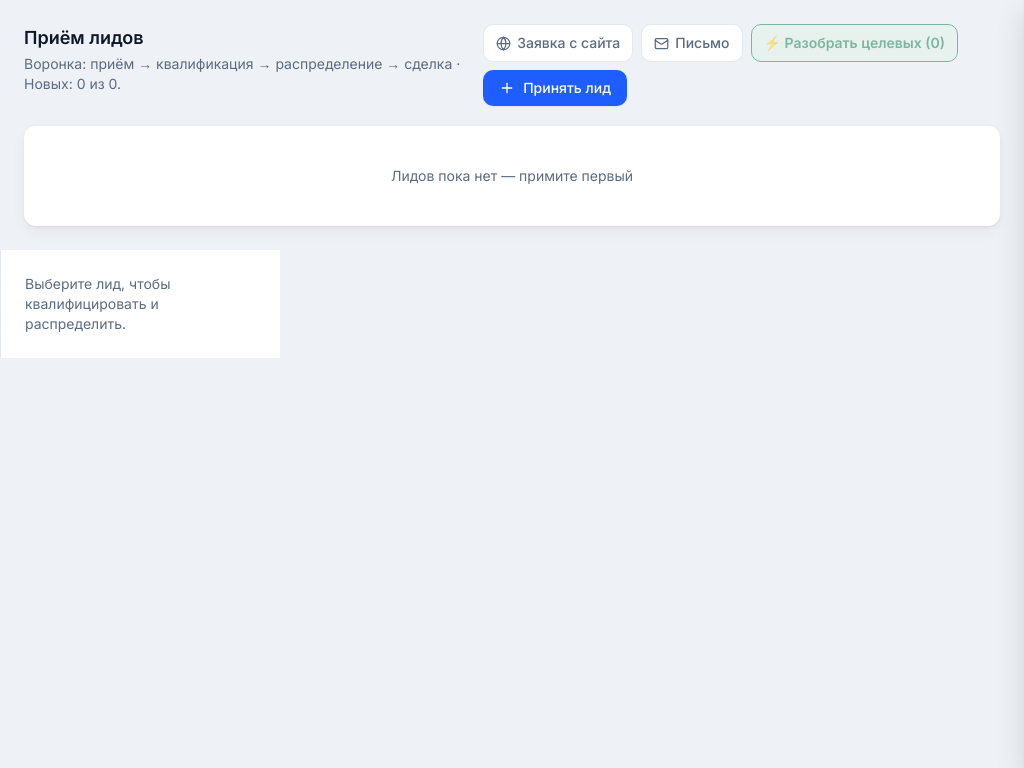
Test: LeadsWorkspace › приём лида через форму добавляет его в инбокс
Click the button "Принять лид": (555, 88) [483, 70, 627, 106]
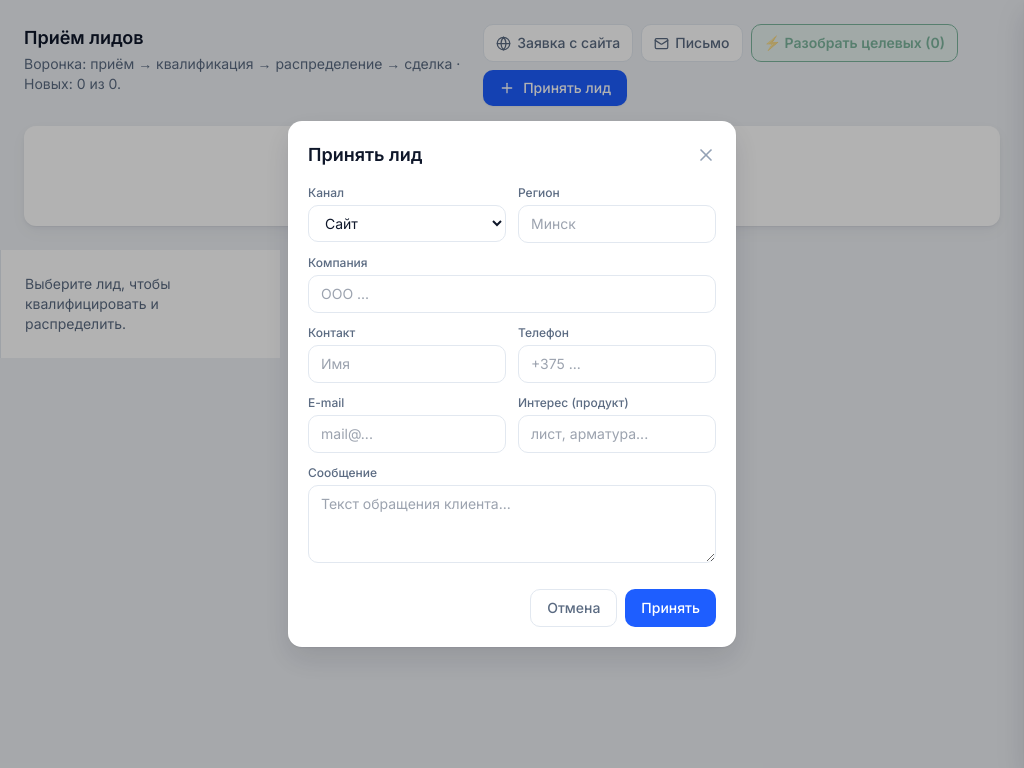
In the field with placeholder "ООО ...": (512, 294) [308, 275, 716, 313], type "ООО Новый Лид"
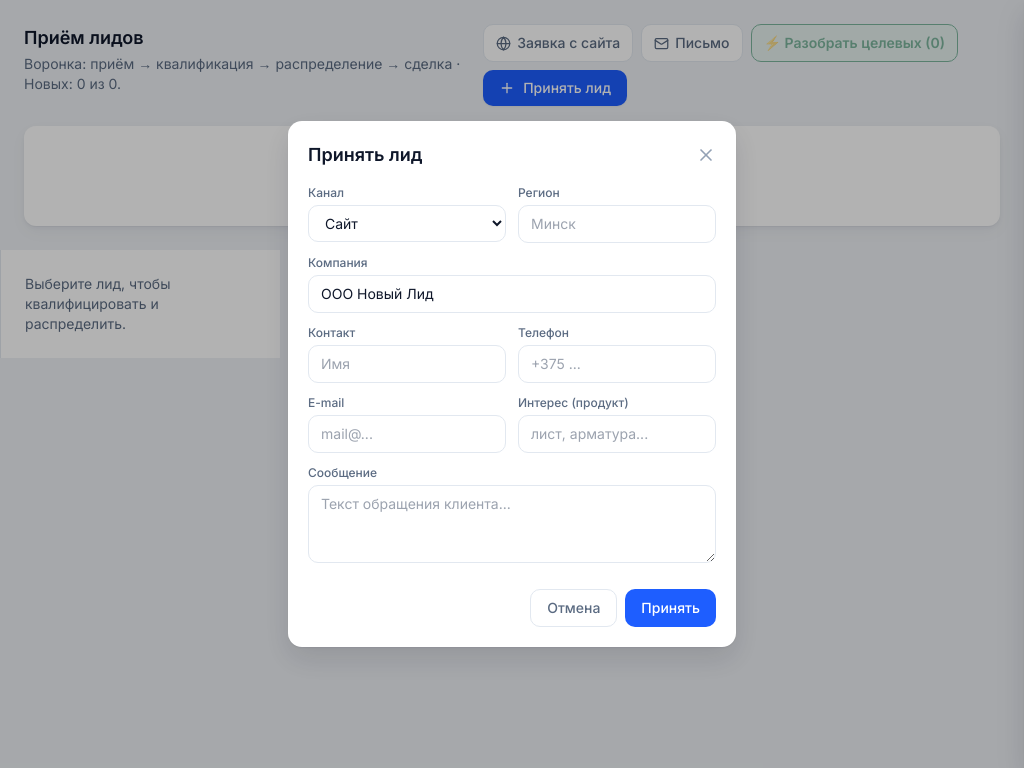
Click the button "Принять": (671, 608) [625, 589, 716, 627]
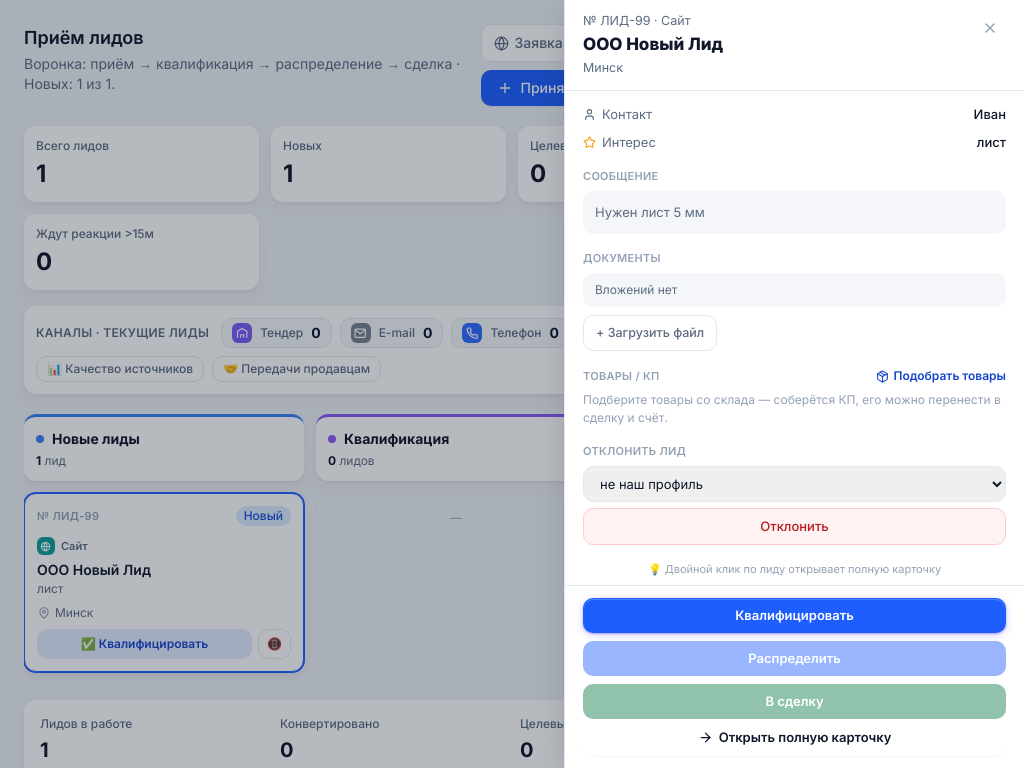
Now the text "ООО Новый Лид" is shown, box [37, 561, 151, 578]
